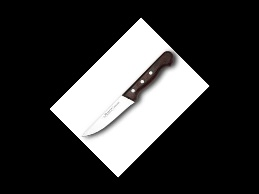k1: (79, 88, 137, 139)
